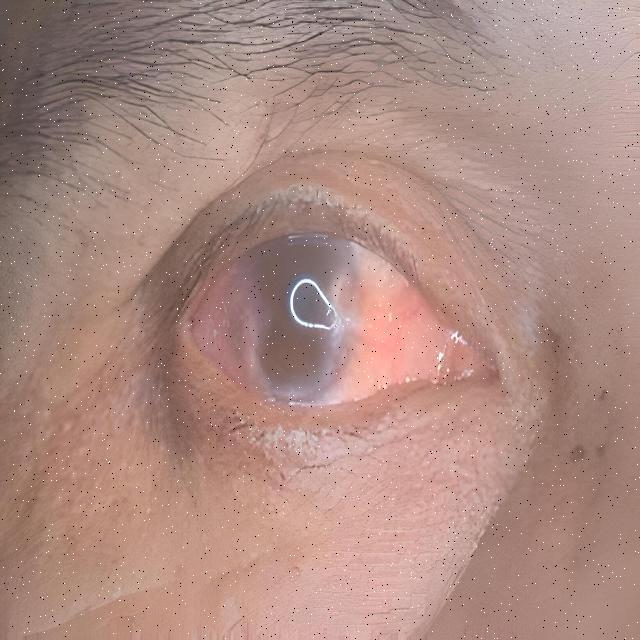Pterygium: (314, 238, 464, 407), (169, 241, 277, 388)
